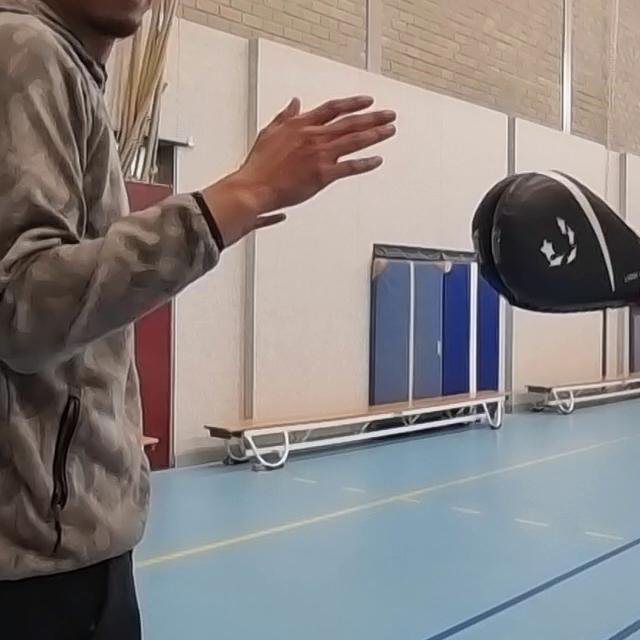paddle: (463, 166, 640, 317)
